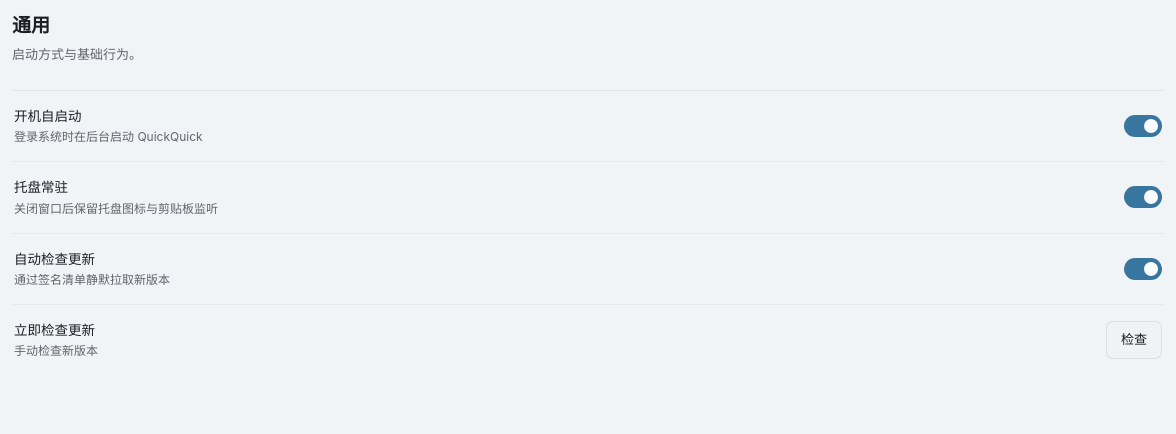
Test: GeneralPanel 立即检查更新按钮 › checkForUpdates reject 时渲染 role=alert 失败文案
Step 1. Click the button "检查" → {"x": 1134, "y": 340}, box [1106, 321, 1162, 359]
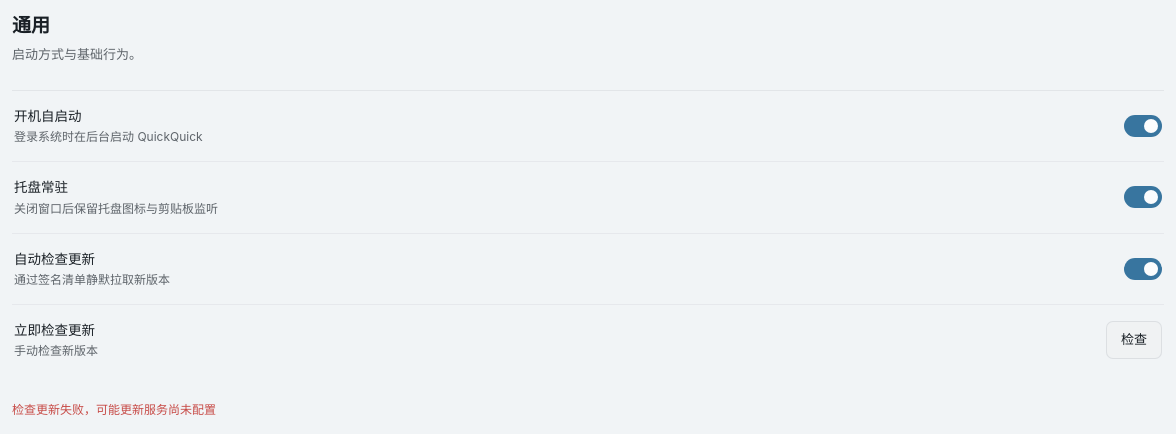
Expected: the message shows "检查更新失败", [12, 402, 216, 417]
